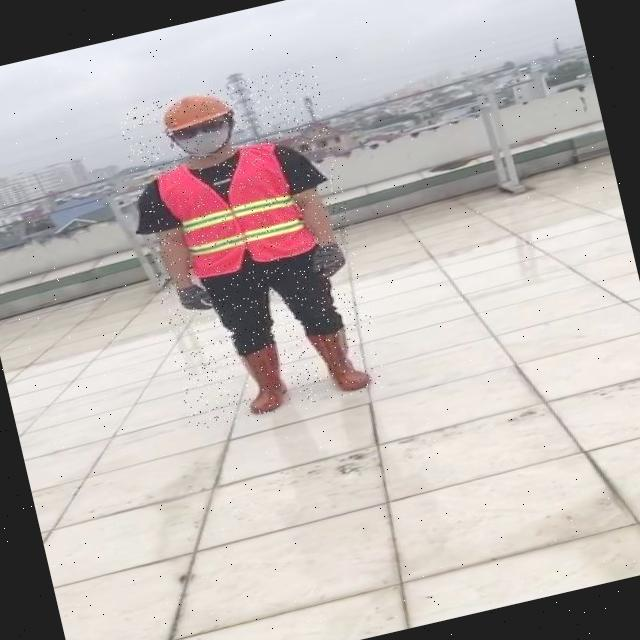boots: (307, 322, 375, 399), (234, 340, 296, 418)
helmet: (156, 84, 236, 134)
vest: (155, 136, 315, 284)
